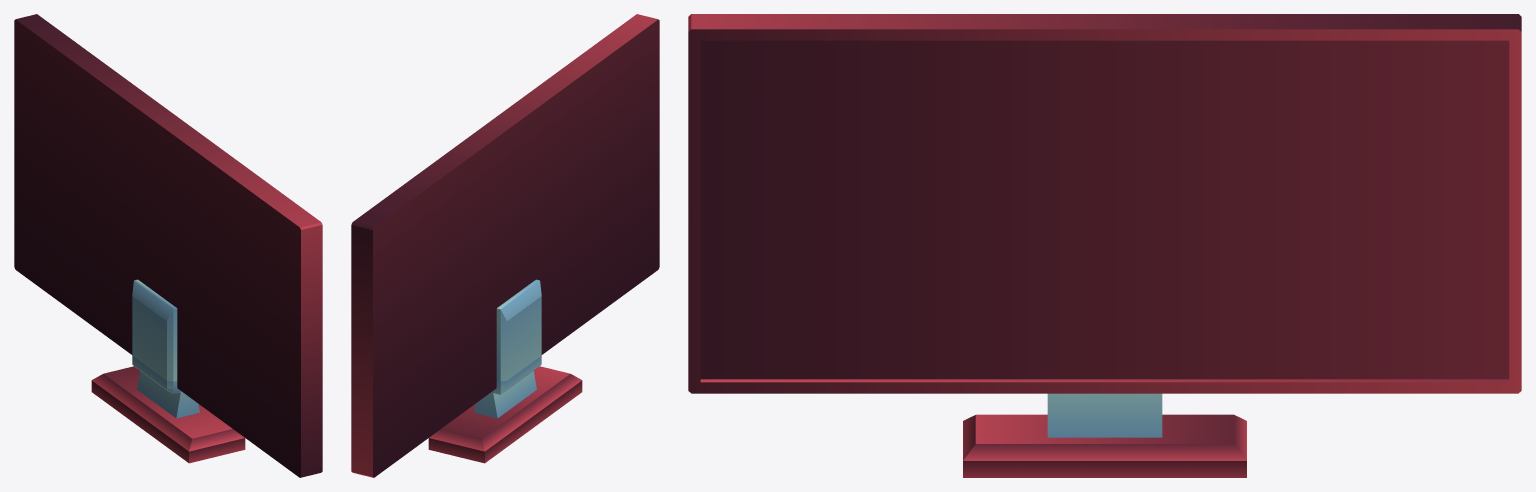
The model's file is SM_plasmaTV.fbx.
The picture shows the model from 3 angles, left to right: view 1: azimuth 30°, elevation 25°; view 2: azimuth 150°, elevation 25°; view 3: azimuth 270°, elevation 25°; orthographic projection. The views are drawn at different scales.
Parts seen in each view (by area): view 1: pCube10; view 2: pCube10; view 3: pCube10.
Boxes of the visible parts, bbox=[...] form: pCube10: bbox=[14, 14, 322, 477]; pCube10: bbox=[351, 14, 659, 477]; pCube10: bbox=[688, 14, 1521, 477].
Bounding box in the file's own units: 180 × 916 × 1586.
